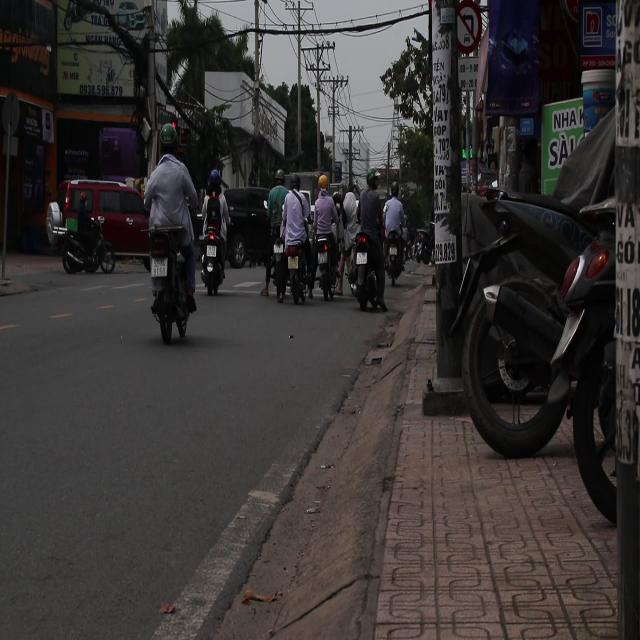car: (48, 181, 150, 262), (219, 188, 272, 269)
motorbike: (140, 236, 202, 359), (197, 189, 230, 297), (349, 224, 386, 318), (59, 220, 115, 276), (281, 227, 310, 321), (312, 220, 342, 310), (264, 224, 292, 308), (379, 221, 409, 298)
